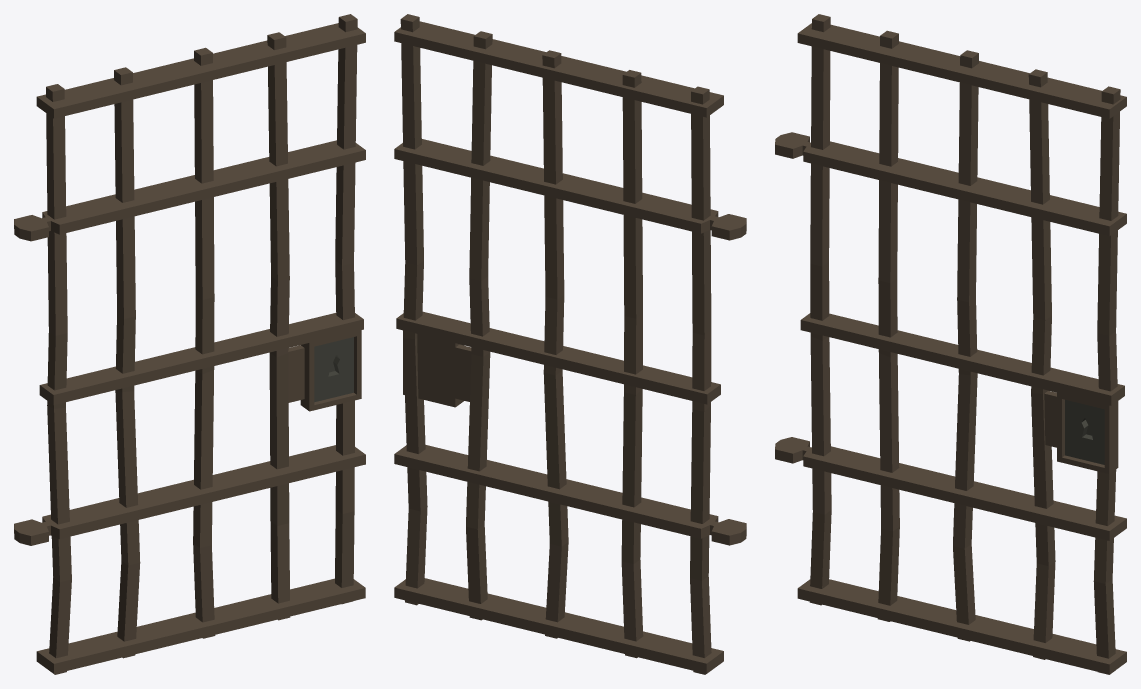
Rendered from jail_door_L.gltf.
3 views of the same model, side by side, from view 1: azimuth 30°, elevation 25°; view 2: azimuth 150°, elevation 25°; view 3: azimuth 330°, elevation 25° (orthographic).
Visible parts, largest first — view 1: Jail_Door_Left; view 2: Jail_Door_Left; view 3: Jail_Door_Left.
Boxes of the visible parts, x1,y1,x2,y2 form: Jail_Door_Left: (14,14,365,674); Jail_Door_Left: (394,14,746,674); Jail_Door_Left: (775,14,1126,674).
Size of the model in its own units: 1.3 by 2.12 by 0.1142.
Materials: 1 (1 with a texture image).
